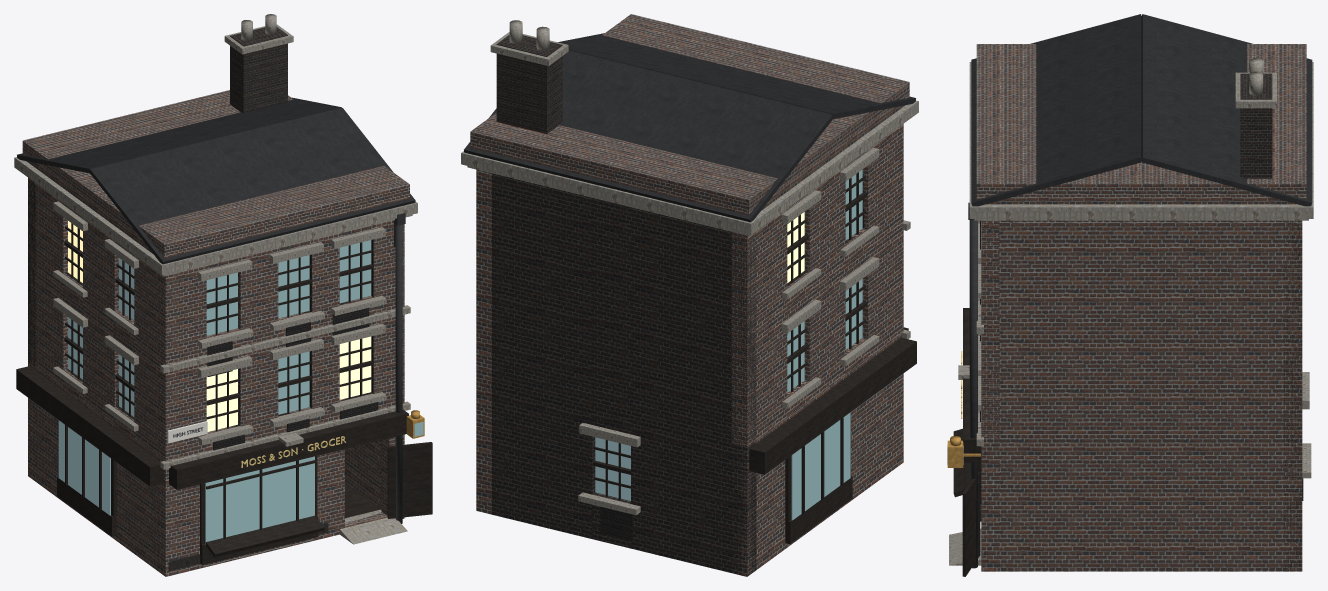
File: prop_ashmoor_cornershop.glb
3 views of the same model, side by side, from view 1: azimuth 30°, elevation 25°; view 2: azimuth 150°, elevation 25°; view 3: azimuth 270°, elevation 25° (orthographic). The views are drawn at different scales.
Visible parts, largest first — view 1: building_ashmoor_cornershop; view 2: building_ashmoor_cornershop; view 3: building_ashmoor_cornershop.
Boxes of the visible parts, x1,y1,x2,y2 form: building_ashmoor_cornershop: [14, 14, 432, 576]; building_ashmoor_cornershop: [461, 14, 918, 576]; building_ashmoor_cornershop: [947, 14, 1313, 576].
Size of the model in its own units: 8 by 11.75 by 7.99.
Materials: 15 (12 with a texture image).
